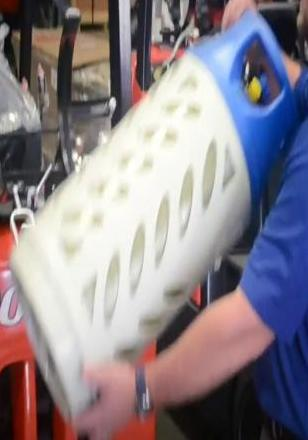cylinder: (1, 1, 308, 440)
